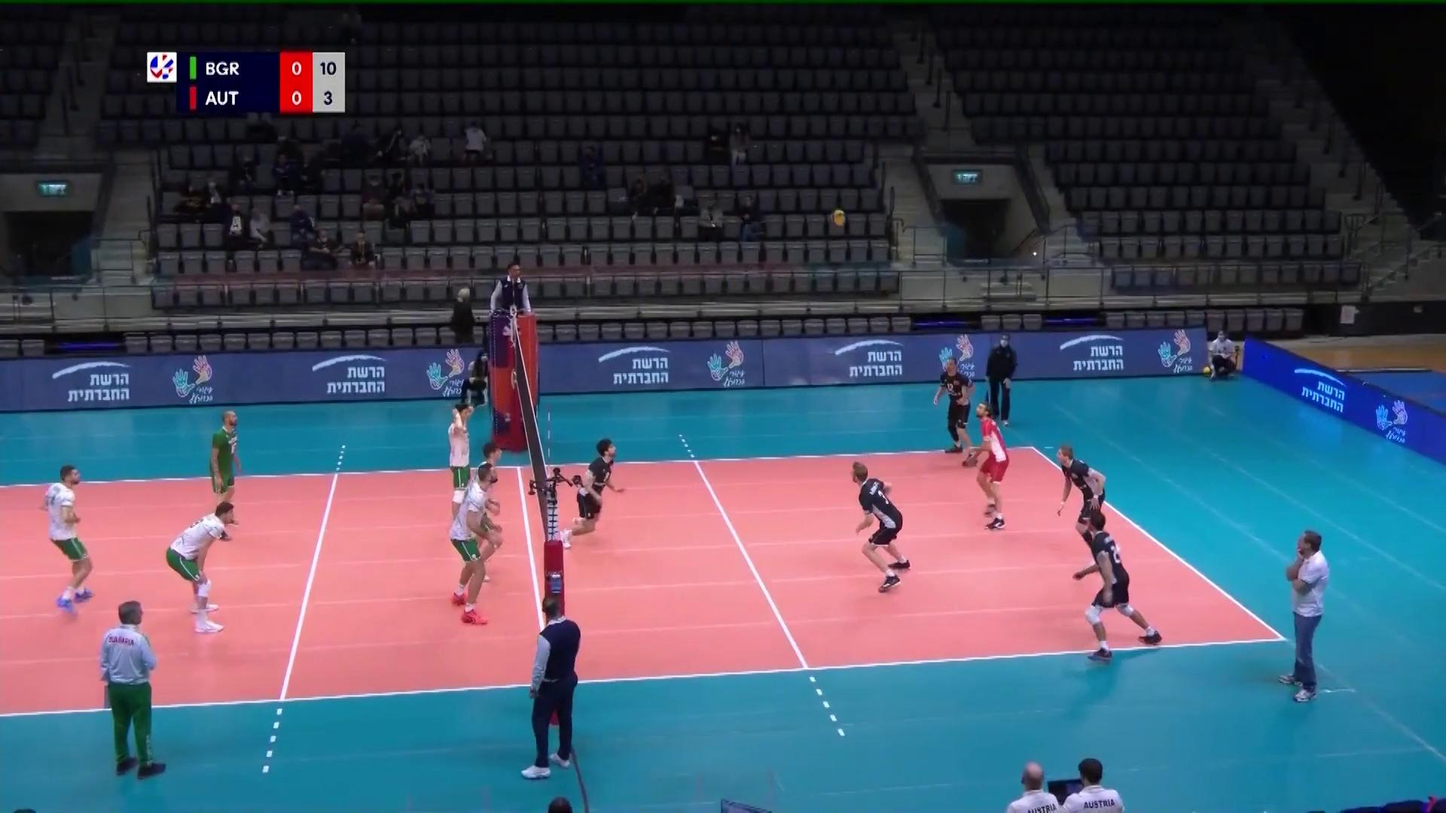ball: (830, 209, 847, 228)
